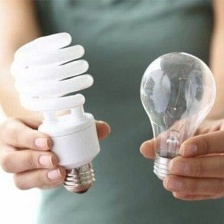light_bulb: (6, 26, 106, 200), (136, 47, 218, 189)
